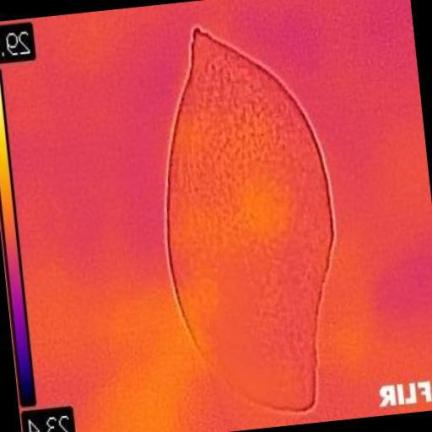mango: (0, 0, 432, 432), (167, 31, 335, 410)
